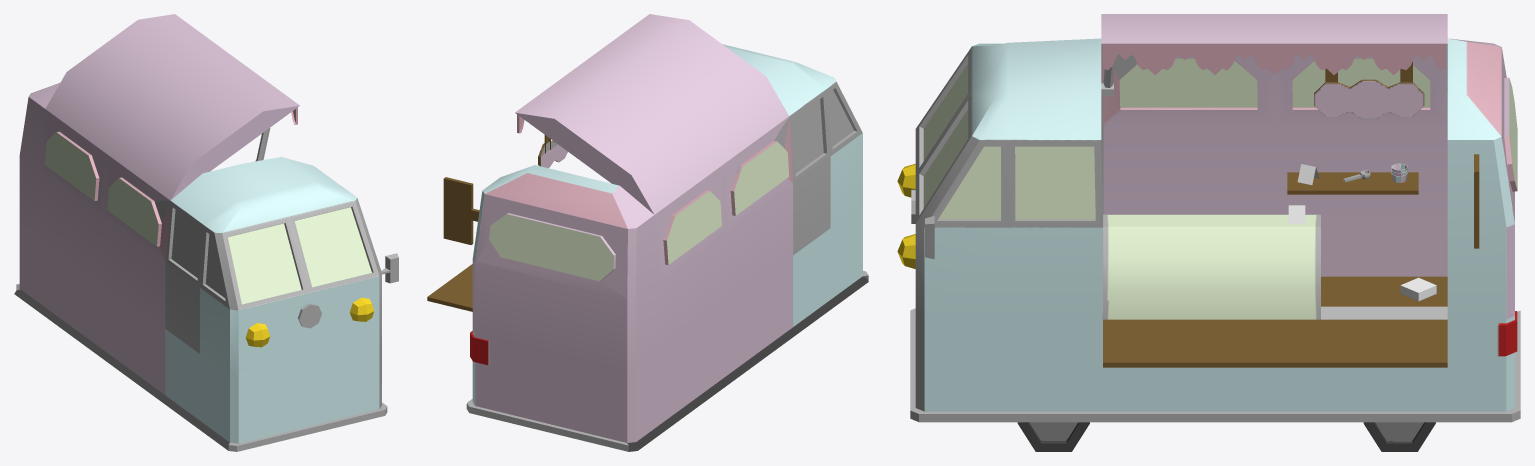
Rendered from ice lv 3.glb.
3 renders of one model, left to right at view 1: azimuth 30°, elevation 25°; view 2: azimuth 150°, elevation 25°; view 3: azimuth 270°, elevation 25°, orthographic. The views are drawn at different scales.
Parts seen in each view (by area): view 1: Cube.025; view 2: Cube.025; view 3: Cube.025.
Part boxes in pixels (x1=…): Cube.025: x1=14, y1=14, x2=398, y2=451; Cube.025: x1=427, y1=14, x2=868, y2=451; Cube.025: x1=897, y1=14, x2=1520, y2=451.
Size of the model in its own units: 1.11 by 1.41 by 1.98.
Materials: 1 (1 with a texture image).
